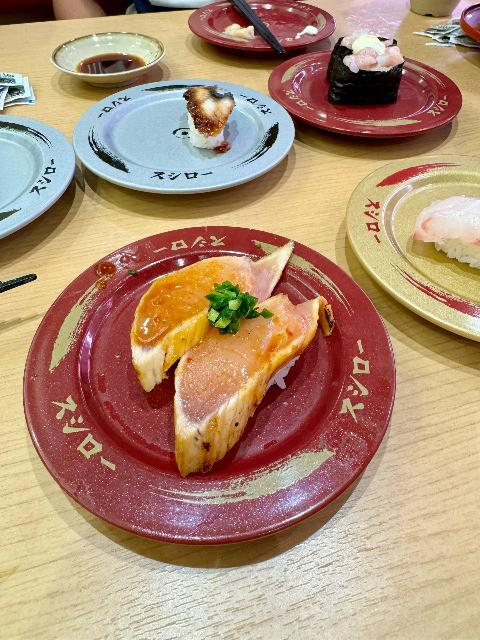jangold: (344, 182, 433, 289), (386, 268, 480, 342), (419, 160, 480, 195)
janwhite: (0, 110, 77, 227), (90, 100, 186, 187), (234, 98, 286, 175)
